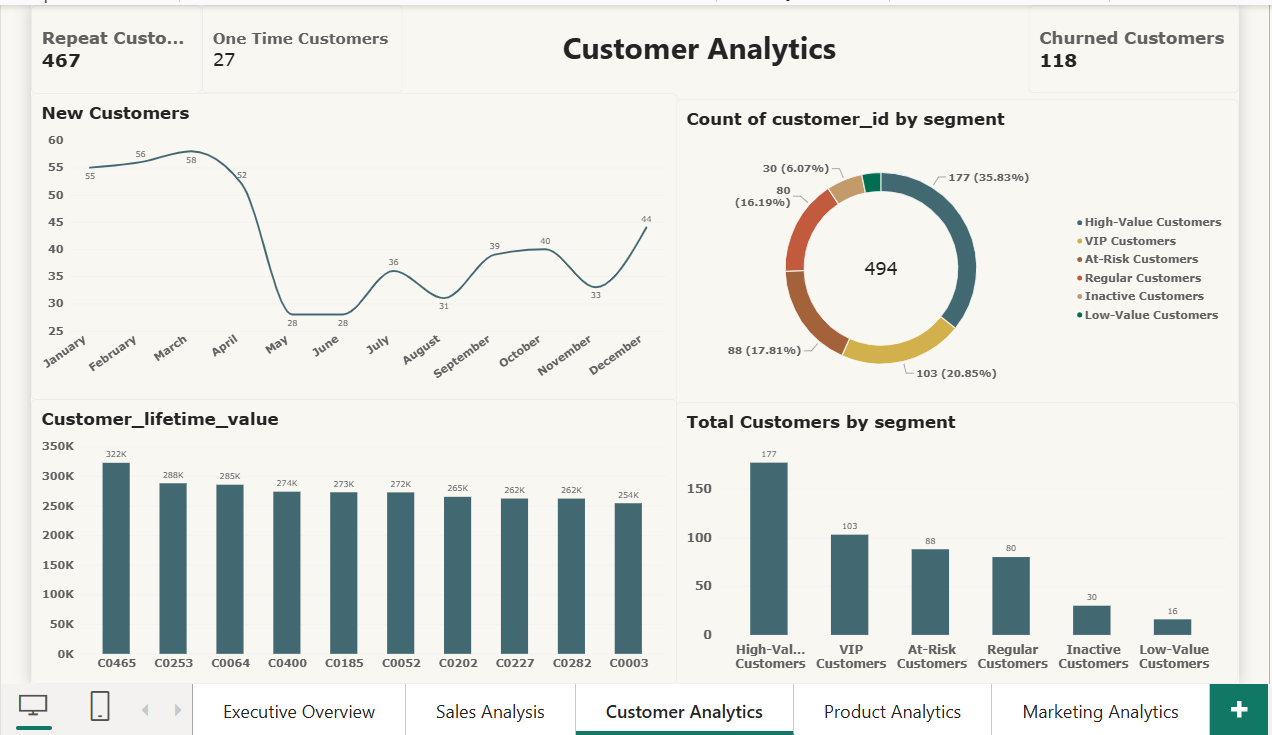

What the dashboard file says about the page in this screenshot:
{"tool":"powerbi","page":{"name":"Customer Analytics","canvas":[1920,1080],"ordinal":2},"visuals":[{"type":"lineChart","title":"New Customers","fields":{"Y":["CountNonNull(customers_cleaned.customer_id)"],"Category":["customers_cleaned.signup_date.Variation.Date Hierarchy.Month"]},"box":[0,140.8,1028.3,486.7],"z":0},{"type":"cardVisual","fields":{"Data":["payments_cleaned.Repeat Customers"]},"box":[0,0,317.3,140.8],"z":1000},{"type":"pieChart","fields":{"Category":["customer_segment_distribution.segment"],"Y":["Sum(customer_segment_distribution.customers)"]},"box":[1025.9,140.8,894.7,491.5],"z":2000},{"type":"clusteredColumnChart","title":"Customer_lifetime_value","fields":{"Y":["Sum(customer_analysis.customer_lifetime_value)"],"Category":["customer_analysis.customer_id"]},"box":[159.9,627.5,1581.9,450.9],"z":3000},{"type":"cardVisual","fields":{"Data":["customer_analysis.Churned Customers"]},"box":[1586.6,0,334,140.8],"z":4000},{"type":"cardVisual","fields":{"Data":["customer_analysis.One Time Customers"]},"box":[317.3,0,324.5,140.8],"z":5000}]}

Visuals, with their boxes on the page's 1920x1080 design canvas (x1, y1, x2, y2). These are canvas units, not pixel positions in the 1272x735 screenshot, which may show the page scaled, cropped or inside an application window:
"New Customers" lineChart: {"left": 0, "top": 141, "right": 1028, "bottom": 628}
cardVisual - payments_cleaned.Repeat Customers: {"left": 0, "top": 0, "right": 317, "bottom": 141}
pieChart - customer_segment_distribution.segment x Sum(customer_segment_distribution.customers): {"left": 1026, "top": 141, "right": 1921, "bottom": 632}
"Customer_lifetime_value" clusteredColumnChart: {"left": 160, "top": 628, "right": 1742, "bottom": 1078}
cardVisual - customer_analysis.Churned Customers: {"left": 1587, "top": 0, "right": 1921, "bottom": 141}
cardVisual - customer_analysis.One Time Customers: {"left": 317, "top": 0, "right": 642, "bottom": 141}
